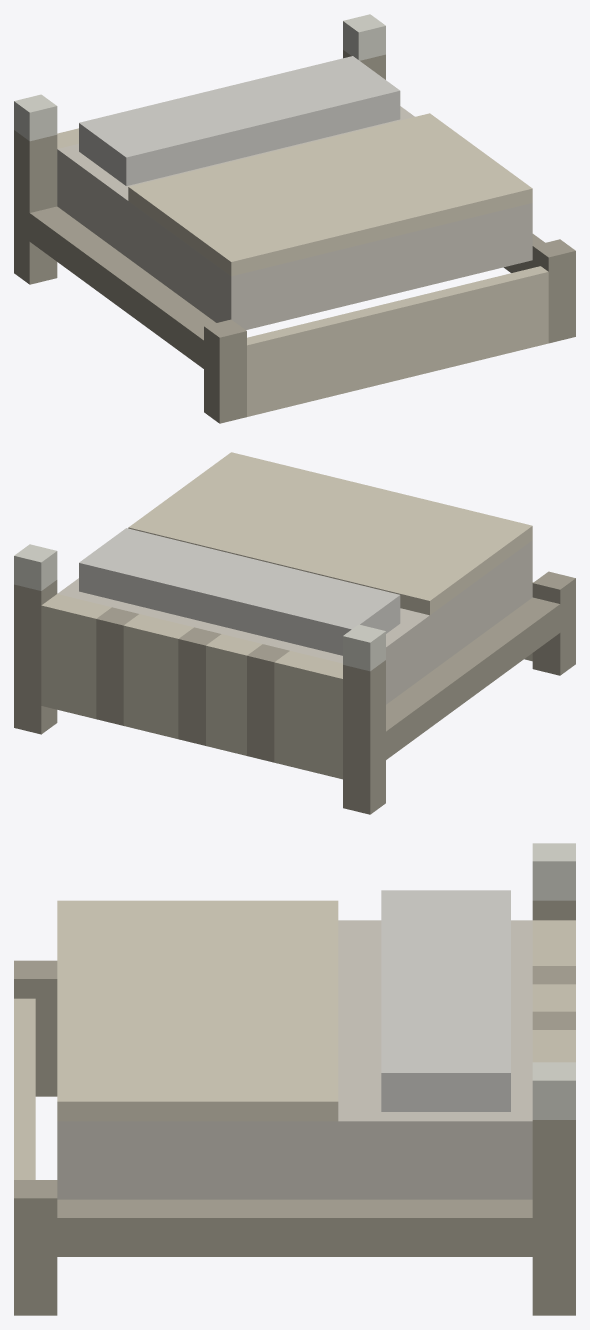
Rendered from cama_abedul_tallada_doble_01.glb.
3 renders of one model, top to bottom at view 1: azimuth 30°, elevation 25°; view 2: azimuth 150°, elevation 25°; view 3: azimuth 270°, elevation 25°, orthographic. The views are drawn at different scales.
Parts seen in each view (by area): view 1: cama_abedul_tallada_doble; view 2: cama_abedul_tallada_doble; view 3: cama_abedul_tallada_doble.
Part boxes in pixels (x1,y1,x2,y2): cama_abedul_tallada_doble: [14, 14, 575, 423]; cama_abedul_tallada_doble: [14, 452, 575, 814]; cama_abedul_tallada_doble: [14, 843, 575, 1315].
Size of the model in its own units: 2 by 0.9231 by 2.
